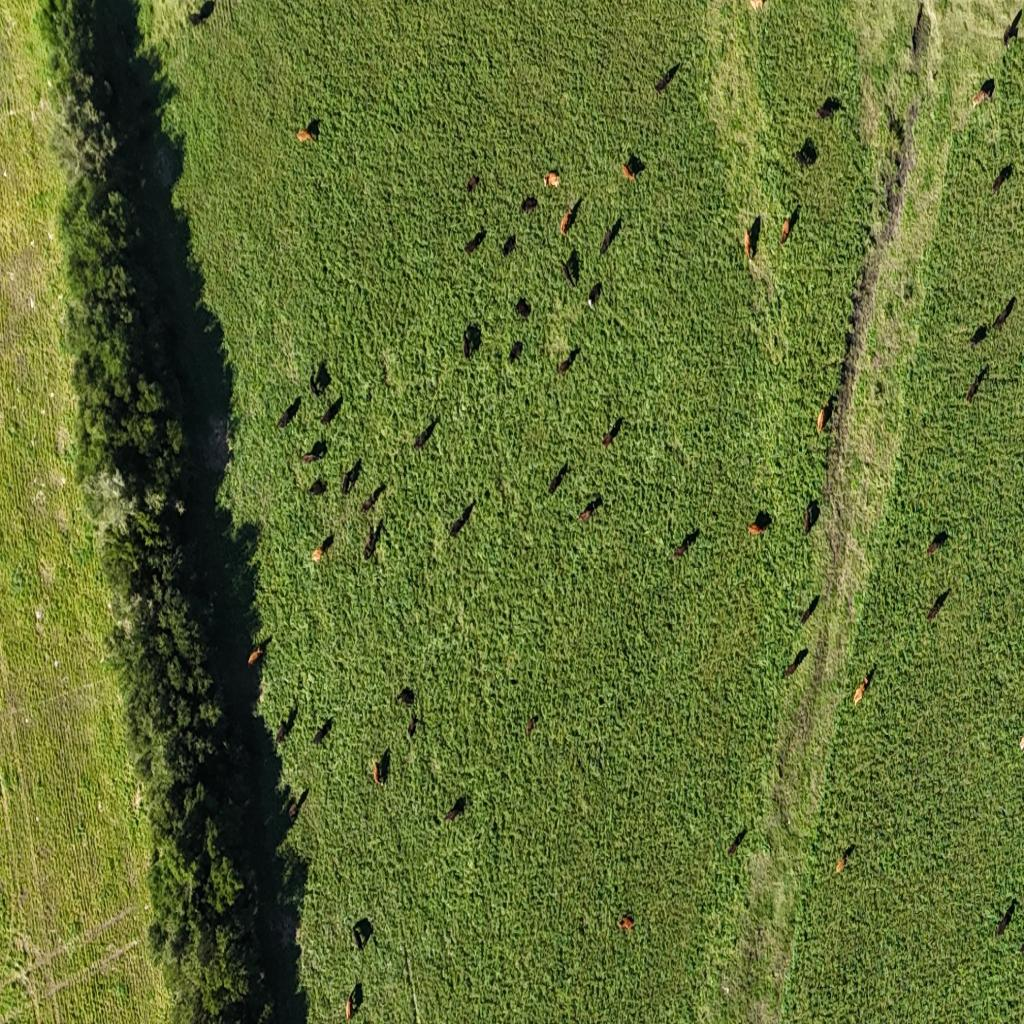cow: (560, 196, 582, 238), (994, 898, 1017, 938), (450, 501, 474, 537), (599, 216, 620, 256), (966, 366, 988, 404), (1002, 8, 1022, 49), (817, 394, 837, 435), (992, 296, 1016, 330), (926, 589, 950, 623), (309, 362, 330, 398), (654, 63, 678, 94), (412, 421, 436, 452), (352, 918, 373, 952), (992, 164, 1014, 196), (188, 1, 216, 26), (784, 648, 807, 678), (578, 496, 602, 524), (556, 348, 578, 378), (548, 461, 568, 494), (797, 137, 818, 168), (288, 792, 308, 824), (300, 440, 326, 464), (322, 396, 342, 427), (444, 796, 466, 824), (802, 499, 819, 535), (345, 983, 362, 1019), (800, 594, 819, 626), (748, 510, 771, 536), (463, 323, 480, 358), (277, 401, 297, 430), (560, 256, 577, 290), (342, 460, 360, 492), (816, 98, 842, 120), (360, 489, 382, 515), (971, 83, 993, 109), (727, 827, 746, 857), (248, 639, 269, 666), (312, 719, 332, 747), (925, 533, 946, 559), (363, 526, 378, 559), (464, 231, 484, 255), (587, 281, 602, 313), (969, 322, 988, 346), (275, 717, 290, 746), (396, 687, 415, 709), (853, 677, 867, 705), (515, 297, 531, 320), (602, 422, 616, 448), (502, 233, 517, 256), (307, 479, 326, 497), (619, 912, 635, 933), (509, 340, 523, 363), (296, 128, 316, 144), (544, 170, 560, 190), (743, 228, 752, 262), (521, 196, 537, 215), (380, 756, 390, 786), (780, 216, 790, 246), (622, 162, 636, 183), (466, 174, 480, 193), (672, 543, 686, 560), (373, 760, 382, 786), (256, 684, 266, 707), (526, 716, 536, 737), (311, 547, 324, 563), (408, 711, 416, 736), (836, 856, 846, 873)
